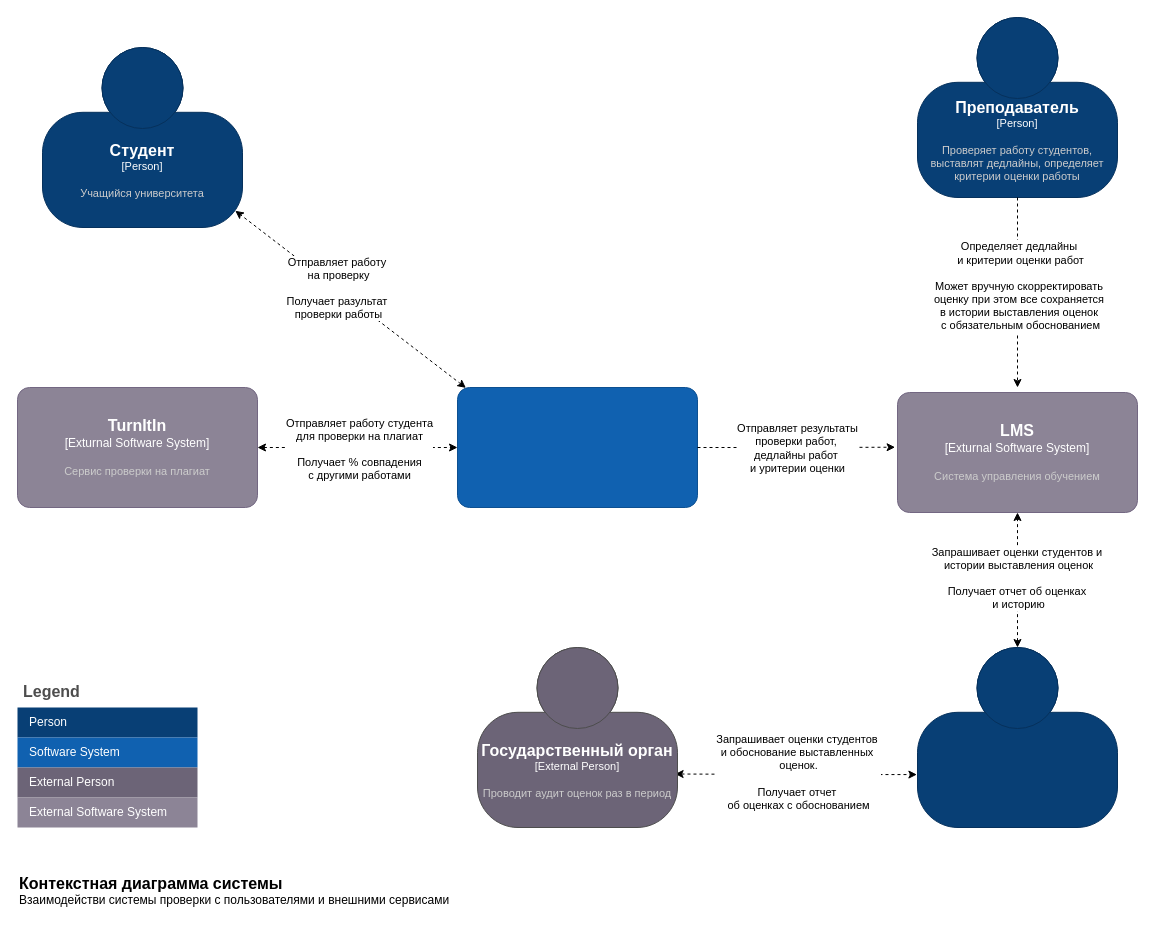
The diagram is 1155 pixels wide and 926 high, and some of its shapes have lost their labels. The shapes that lost their labels are listed below. From the top down, each one's centre as x and y in pixels, then its label:
At point (577, 447): "Сервис проверки [Software System] Автоматический сервис проверки работ студентов".
At point (1017, 737): "Администрация [Person] Декан, бухгалтерия, менеджеский состав.".
